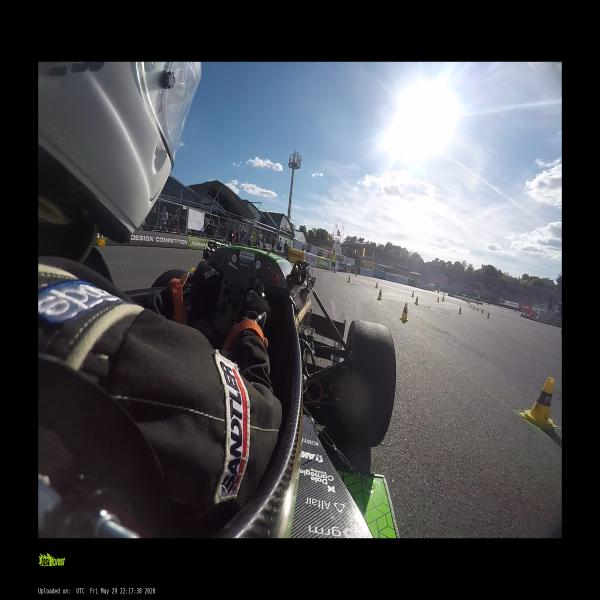yellow_cone: (522, 376, 558, 429), (398, 302, 408, 320), (376, 288, 382, 300), (98, 238, 105, 246), (414, 296, 419, 305), (346, 276, 351, 284), (410, 290, 414, 298), (458, 306, 461, 314), (486, 312, 490, 318), (374, 282, 378, 288), (436, 297, 439, 303), (441, 296, 444, 302), (481, 308, 483, 314), (442, 295, 444, 301), (476, 308, 478, 312), (473, 306, 475, 310), (355, 272, 357, 276), (560, 332, 561, 335)
